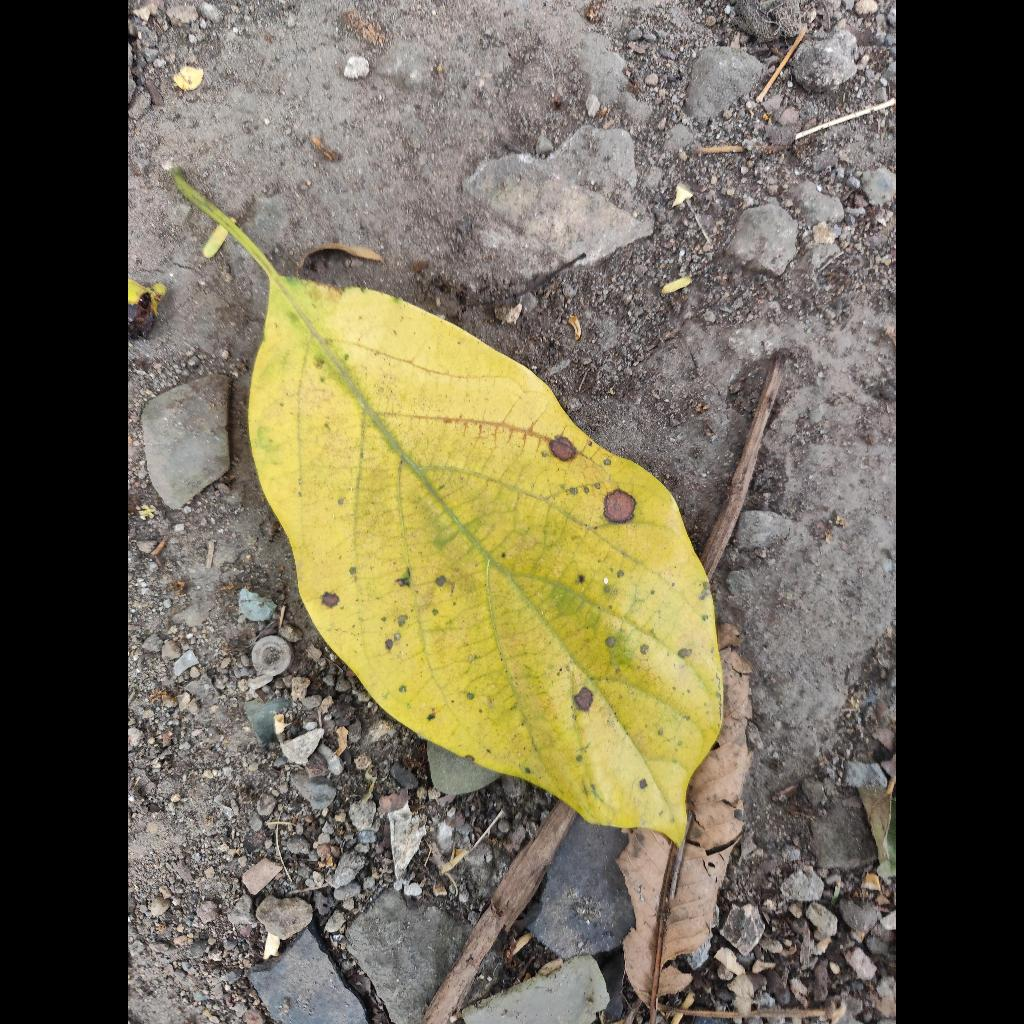deficiencia_nutricional: (173, 168, 723, 841)
